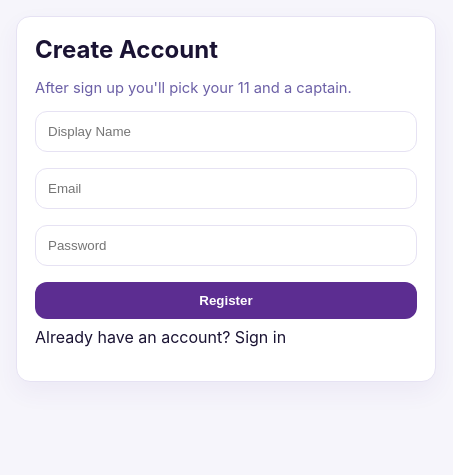
Test case: Register Component › shows validation error for short password
Type "123" into the password field with placeholder "Password". click: (226,246)
box: [35,225,417,266]
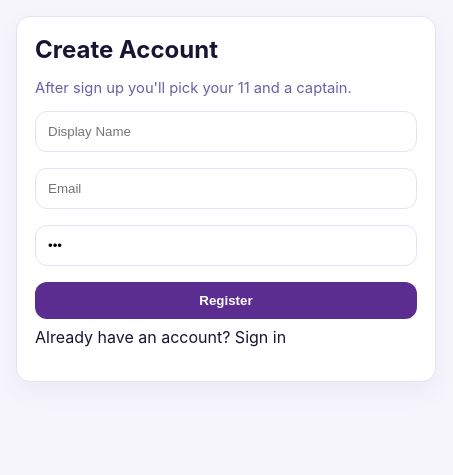
Click the button "Register". click: (226,301)
box: [35,282,417,319]
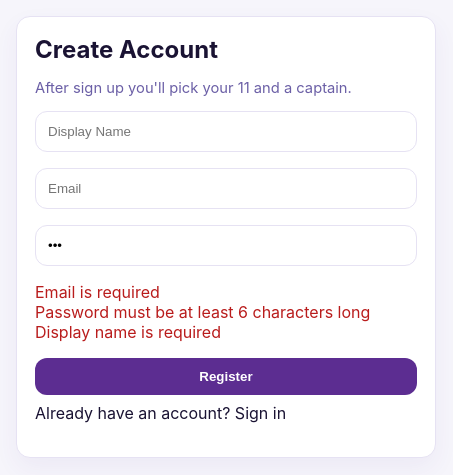
Expected: the text "Password must be at least 6 characters long" is shown, [35,302,417,322]
